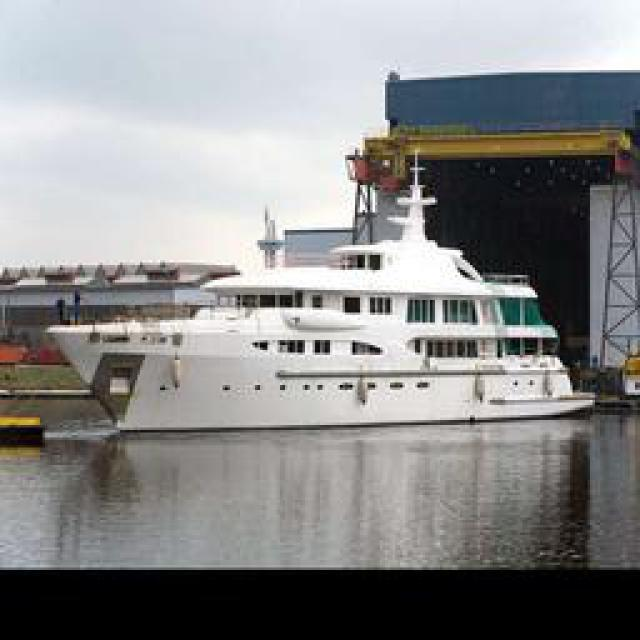Ship: (49, 125, 592, 430)
